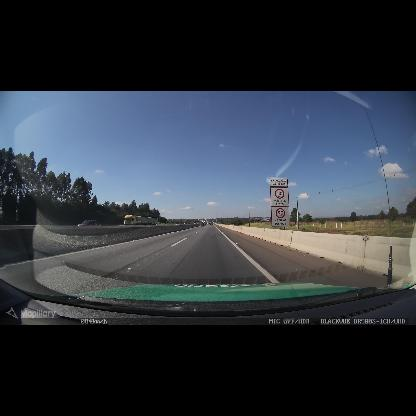I-SA: (269, 178, 288, 187)
R-19: (270, 187, 290, 227)
